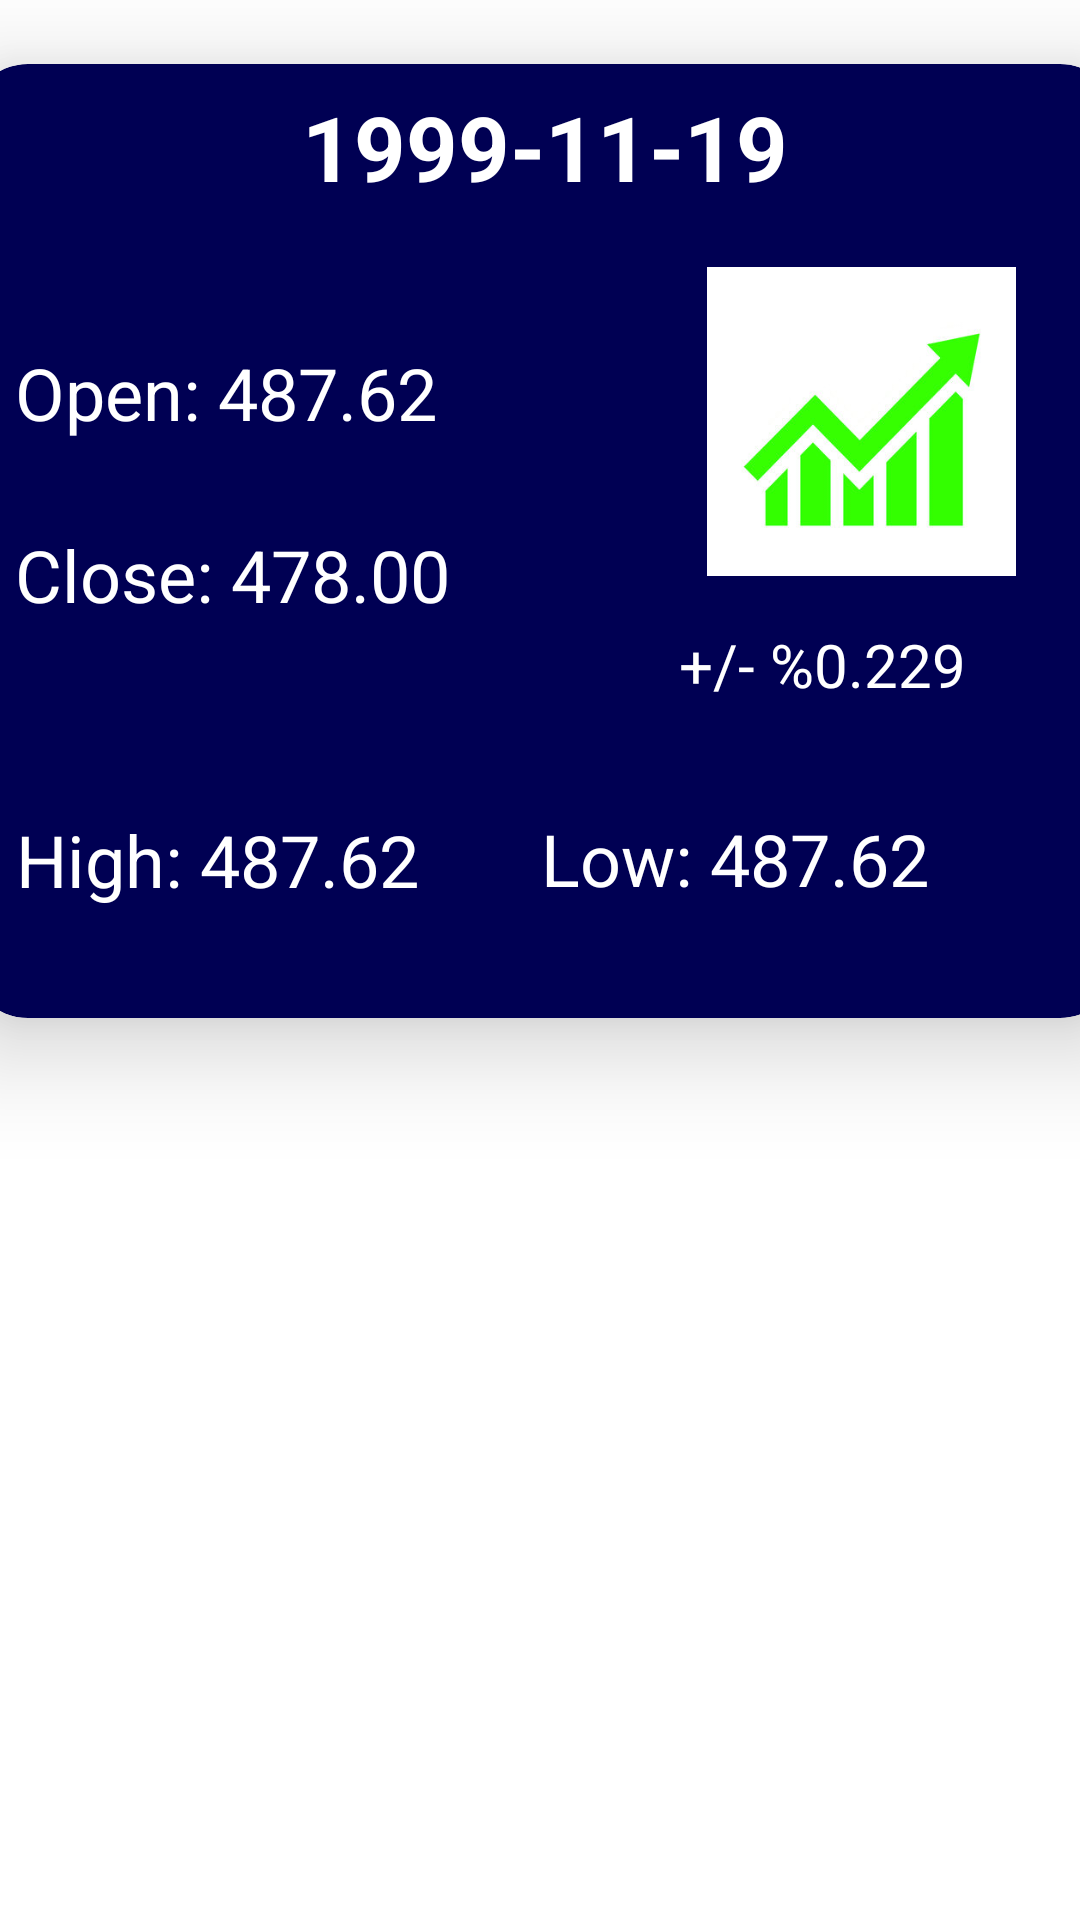

Point at icon controls on the screen. Image size 1080*1920, points as [x,y].
greenarrow: [861,421]
